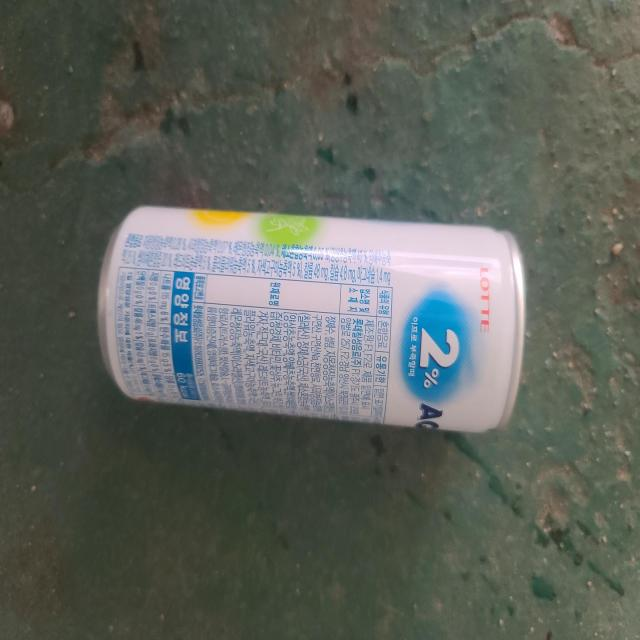can: (97, 206, 526, 432)
